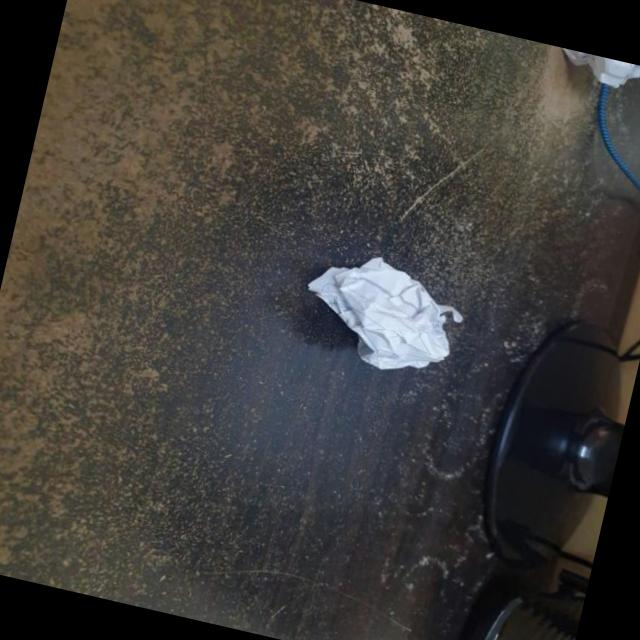cardboard paper: (309, 259, 462, 370)
